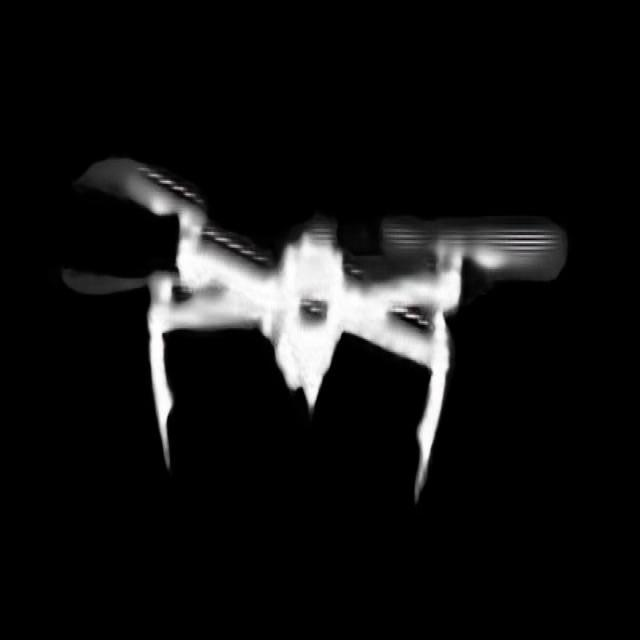drone: (60, 123, 569, 510)
